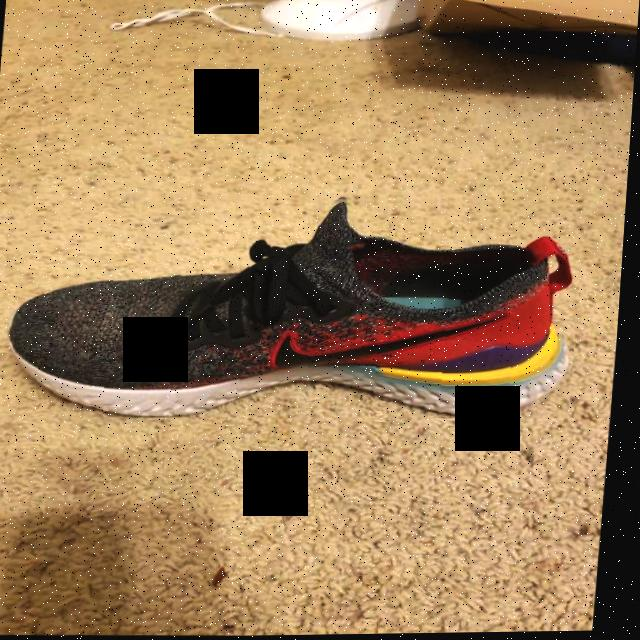shoe: (5, 187, 590, 426)
